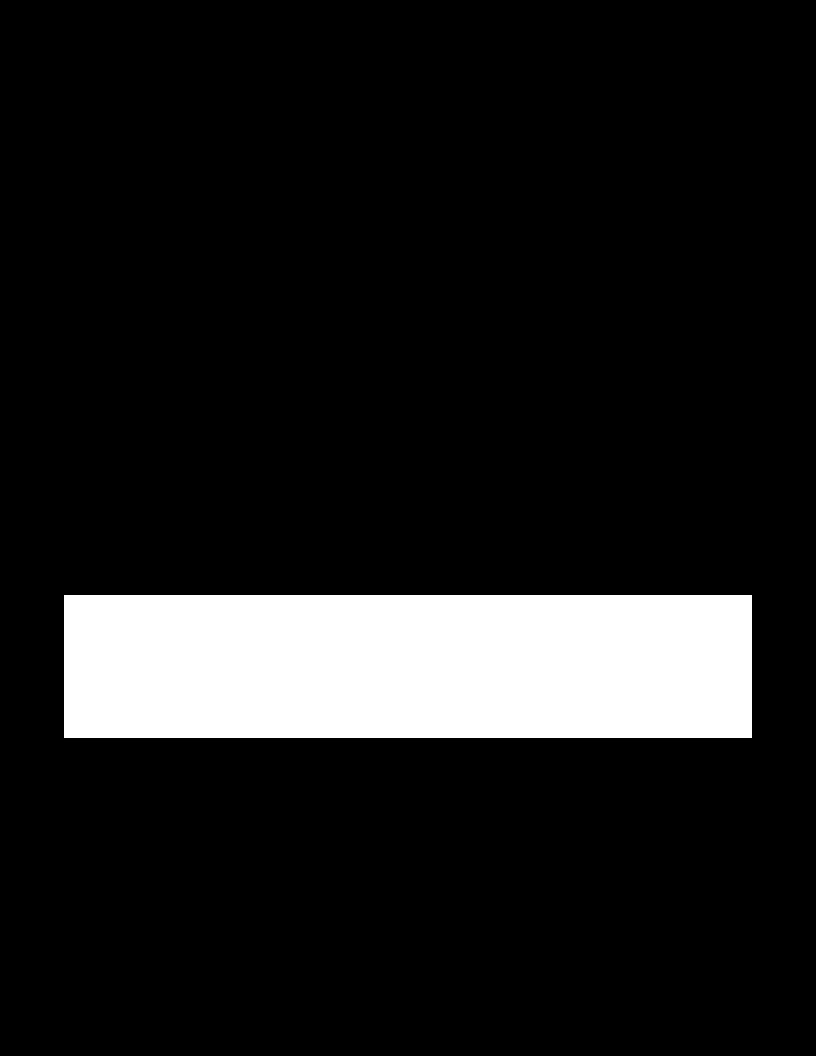table: (64, 595, 751, 737)
